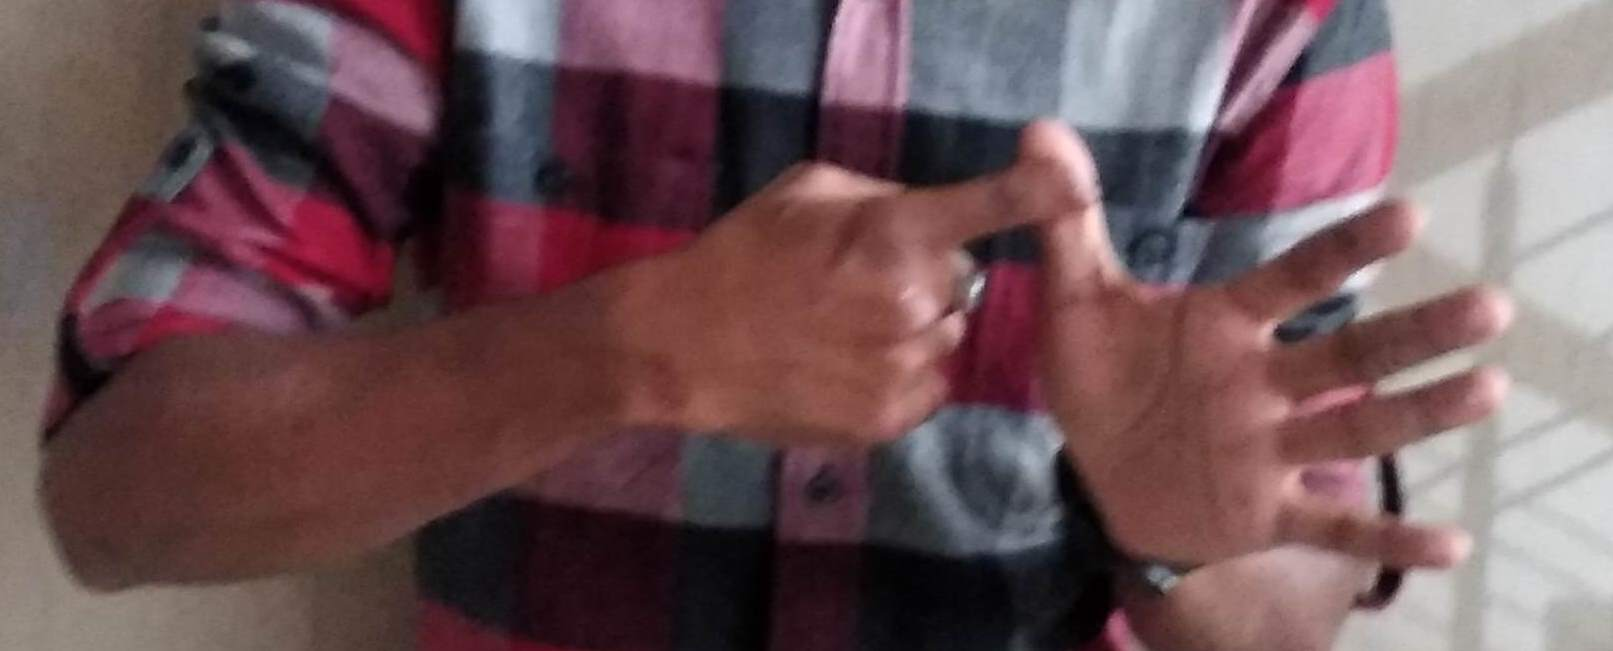a: (707, 126, 1470, 551)
